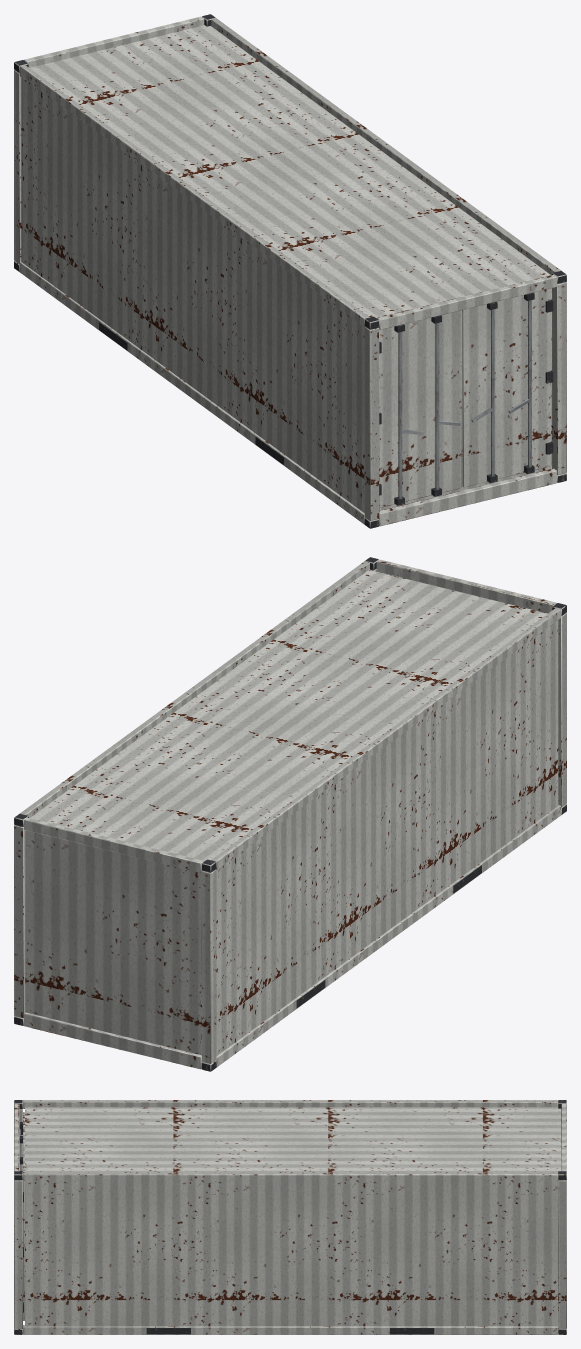
File: container.glb
3 renders of one model, top to bottom at view 1: azimuth 30°, elevation 25°; view 2: azimuth 150°, elevation 25°; view 3: azimuth 270°, elevation 25°, orthographic. The views are drawn at different scales.
Parts seen in each view (by area): view 1: container; view 2: container; view 3: container.
Boxes of the visible parts, x1=… form: container: x1=14, y1=14, x2=566, y2=528; container: x1=14, y1=557, x2=566, y2=1071; container: x1=14, y1=1100, x2=566, y2=1334.
Bounding box in the file's own units: 3.21 × 3.2 × 10.
Materials: 3 (3 with a texture image).
